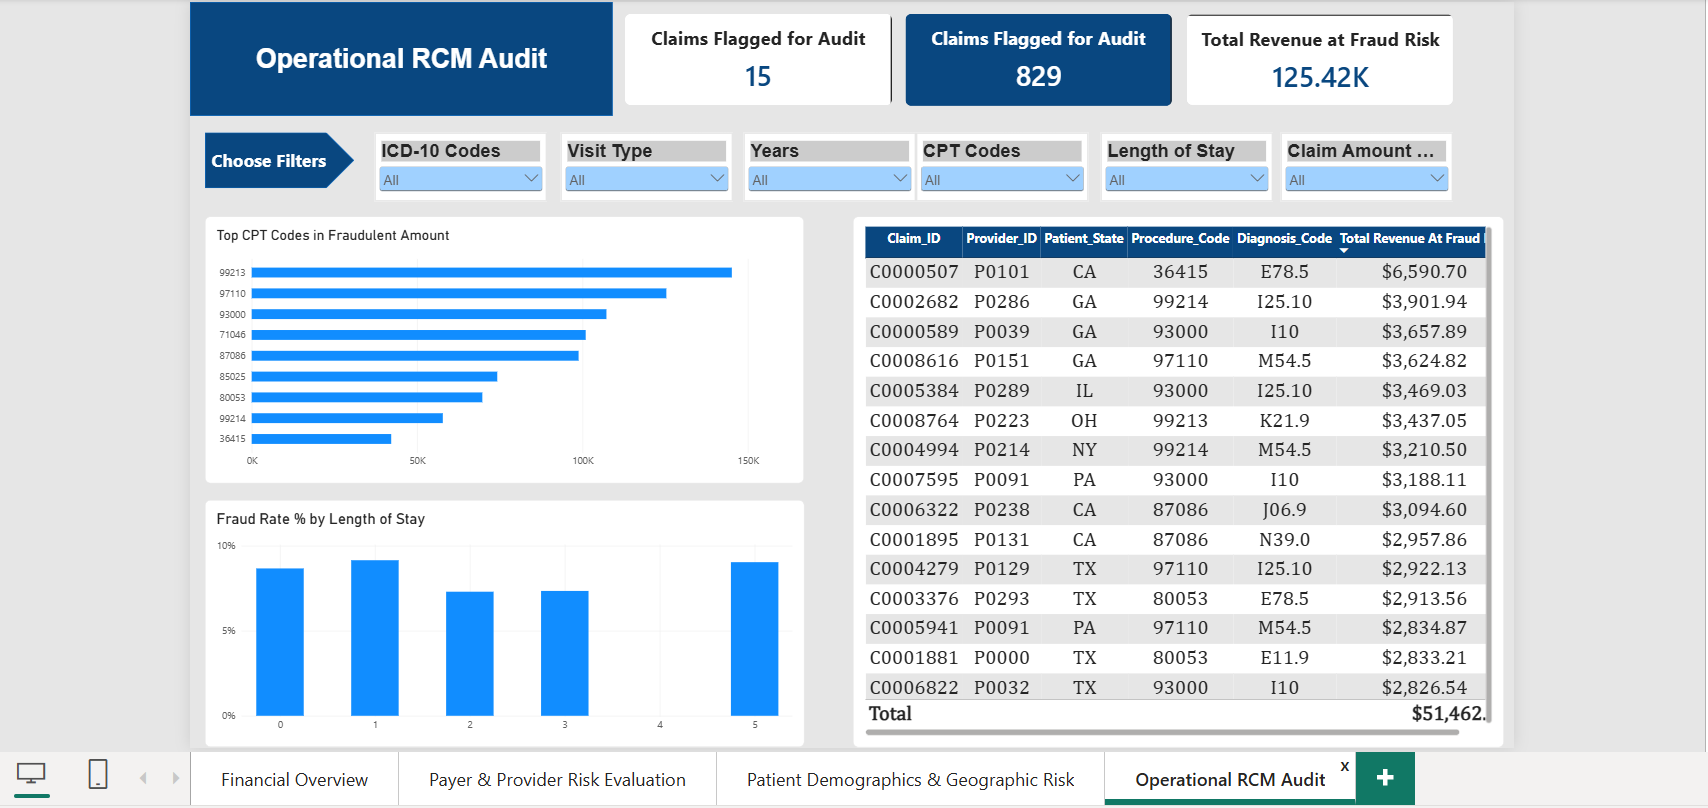

This screenshot's page, from the dashboard's own definition file:
{"tool":"powerbi","page":{"name":"Operational RCM Audit","canvas":[1920,1080],"ordinal":3},"visuals":[{"type":"cardVisual","fields":{"Data":["ROI Measures.Avg Fraud Filing Lag Days"]},"box":[630,17.5,387.5,132.5],"z":0},{"type":"cardVisual","fields":{"Data":["ROI Measures.Total Audit Queue Claims"]},"box":[1037.1,17.5,386.5,133.2],"z":1000},{"type":"cardVisual","fields":{"Data":["ROI Measures.Top Coding Fraud Loss"]},"box":[1443.2,17.5,388.6,133.2],"z":2000},{"type":"barChart","title":"Top CPT Codes in Fraudulent Amount","fields":{"Category":["Fact_Table.Procedure_Code"],"Y":["ROI Measures.Top Coding Fraud Loss"]},"box":[21.5,311.5,868,386.7],"z":3000},{"type":"clusteredColumnChart","title":"Fraud Rate % by Length of Stay","fields":{"Category":["Fact_Table.Length_of_Stay"],"Y":["ROI Measures.Fraud Rate %"]},"box":[21.8,722.7,869,358.1],"z":4000},{"type":"tableEx","fields":{"Values":["Fact_Table.Claim_ID","Dim_Provider.Provider_ID","Fact_Table.Patient_State","Fact_Table.Procedure_Code","Fact_Table.Diagnosis_Code","ROI Measures.Total Revenue At Fraud Risk"]},"box":[960.4,311.5,943.2,769.2],"z":5000},{"type":"slicer","fields":{"Values":["Fact_Table.Procedure_Code"]},"box":[1052.4,190,250,100],"z":6000},{"type":"slicer","fields":{"Values":["Fact_Table.Patient_State"]},"box":[1318.7,190,250,100],"z":7000},{"type":"slicer","fields":{"Values":["Fact_Table.Claim_Amount_Bucket"]},"box":[1580.7,190,250,100],"z":8000},{"type":"shape","box":[0,0,612.5,165],"z":9000},{"type":"shape","box":[21.4,189.8,216.2,80.8],"z":10000},{"type":"slicer","fields":{"Values":["Fact_Table.Submission_Year"]},"box":[801.9,189.8,250,100],"z":11000},{"type":"slicer","fields":{"Values":["Fact_Table.Visit_Type"]},"box":[537.2,189.8,250,100],"z":12000},{"type":"slicer","fields":{"Values":["Fact_Table.Diagnosis_Code"]},"box":[267.3,189.8,250,100],"z":13000}]}

Visuals, with their boxes on the page's 1920x1080 design canvas (x1, y1, x2, y2). These are canvas units, not pixel positions in the 1708x808 screenshot, which may show the page scaled, cropped or inside an application window:
cardVisual - ROI Measures.Avg Fraud Filing Lag Days: rect(630, 18, 1018, 150)
cardVisual - ROI Measures.Total Audit Queue Claims: rect(1037, 18, 1424, 151)
cardVisual - ROI Measures.Top Coding Fraud Loss: rect(1443, 18, 1832, 151)
"Top CPT Codes in Fraudulent Amount" barChart: rect(22, 312, 890, 698)
"Fraud Rate % by Length of Stay" clusteredColumnChart: rect(22, 723, 891, 1081)
tableEx - Fact_Table.Claim_ID x Dim_Provider.Provider_ID: rect(960, 312, 1904, 1081)
slicer - Fact_Table.Procedure_Code: rect(1052, 190, 1302, 290)
slicer - Fact_Table.Patient_State: rect(1319, 190, 1569, 290)
slicer - Fact_Table.Claim_Amount_Bucket: rect(1581, 190, 1831, 290)
shape: rect(0, 0, 612, 165)
shape: rect(21, 190, 238, 271)
slicer - Fact_Table.Submission_Year: rect(802, 190, 1052, 290)
slicer - Fact_Table.Visit_Type: rect(537, 190, 787, 290)
slicer - Fact_Table.Diagnosis_Code: rect(267, 190, 517, 290)
